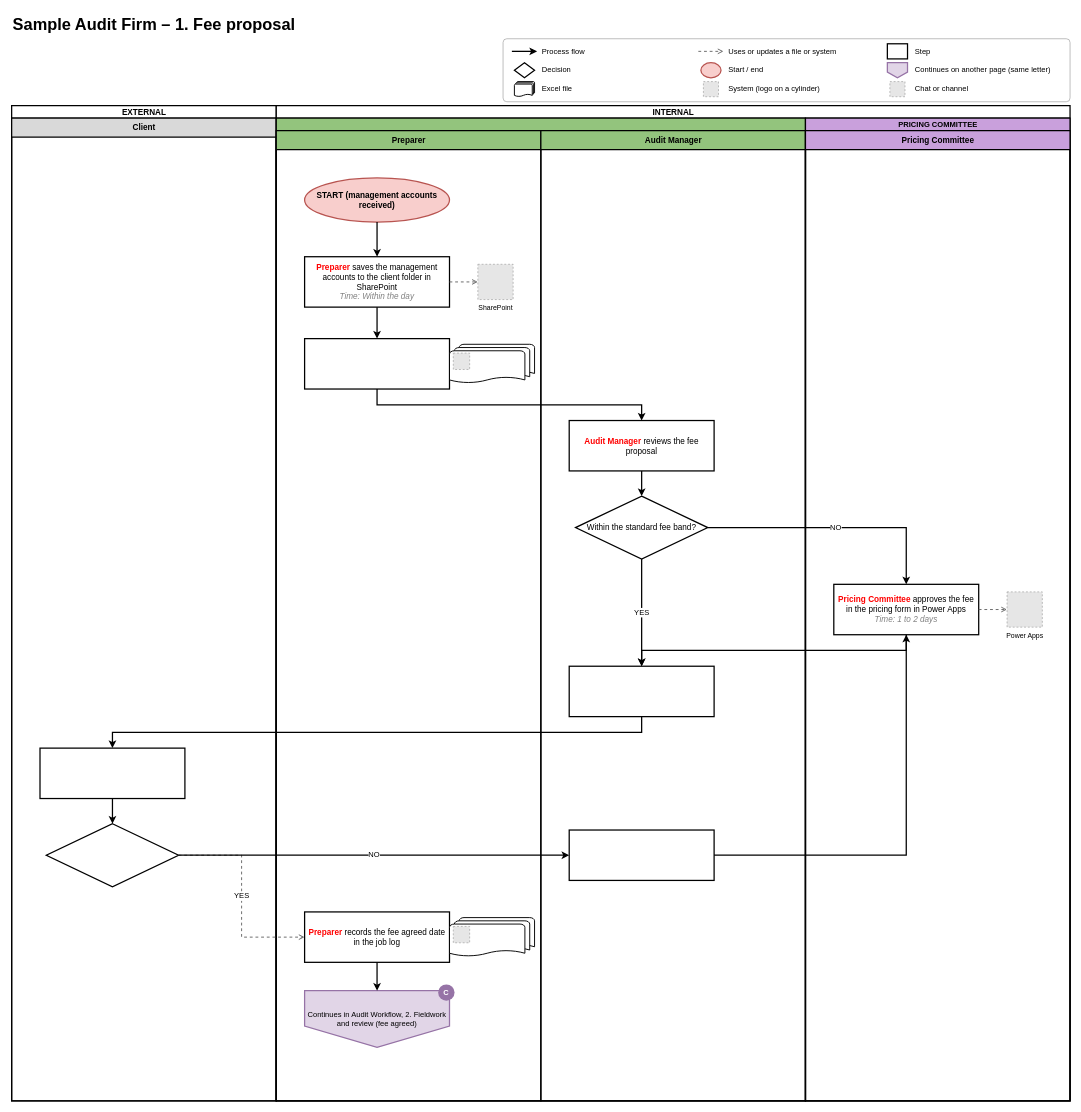
Some shapes in this 1081 by 1112 pixel diagram are drawn without their labels. Grey dashed boxes stand in for pictures. The box of each missing label's shape, as (x1, y1, x2, y2) in pixels:
AUDIT DEPARTMENT: (275, 117, 806, 1101)
Audit Manager emails the fee proposal to the client: (568, 665, 714, 717)
Audit Manager negotiates the fee with the client by phone: (568, 829, 714, 881)
Client accepts the fee?: (45, 823, 179, 887)
Client reviews the fee proposal Time: Follow-up after 3 working days: (39, 747, 185, 799)
Fee proposal (Excel): (449, 344, 535, 384)
Job log (Excel): (449, 917, 535, 957)
Preparer fills in the fee proposal with last year's fee and hours: (304, 338, 450, 389)
